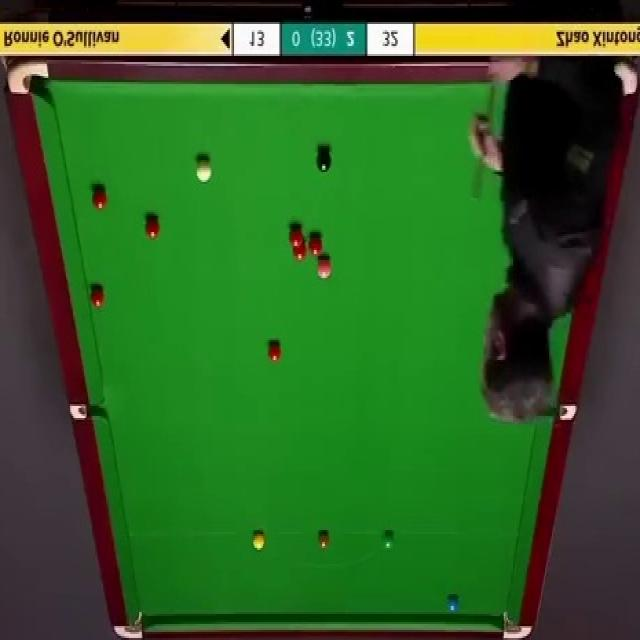pocket: (10, 61, 48, 97), (111, 609, 145, 640), (499, 611, 532, 640), (69, 403, 103, 422), (548, 405, 577, 420)
